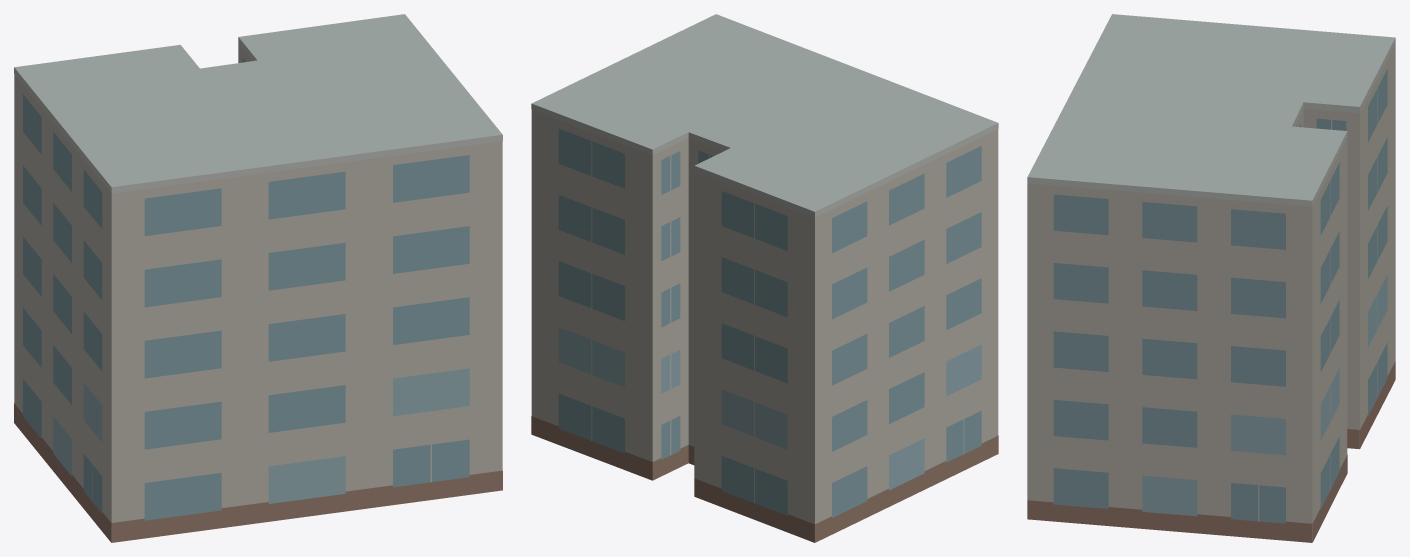
Rendered from survey-upis-32669486.glb.
3 renders of one model, left to right at view 1: azimuth 30°, elevation 25°; view 2: azimuth 150°, elevation 25°; view 3: azimuth 270°, elevation 25°, orthographic. The views are drawn at different scales.
Parts seen in each view (by area): view 1: survey-upis-32669486.tmp; view 2: survey-upis-32669486.tmp; view 3: survey-upis-32669486.tmp.
Part boxes in pixels (x1,y1,x2,y2): survey-upis-32669486.tmp: (14,14,502,542); survey-upis-32669486.tmp: (531,14,998,542); survey-upis-32669486.tmp: (1027,14,1395,542).
Size of the model in its own units: 15.98 by 13.65 by 13.32.
